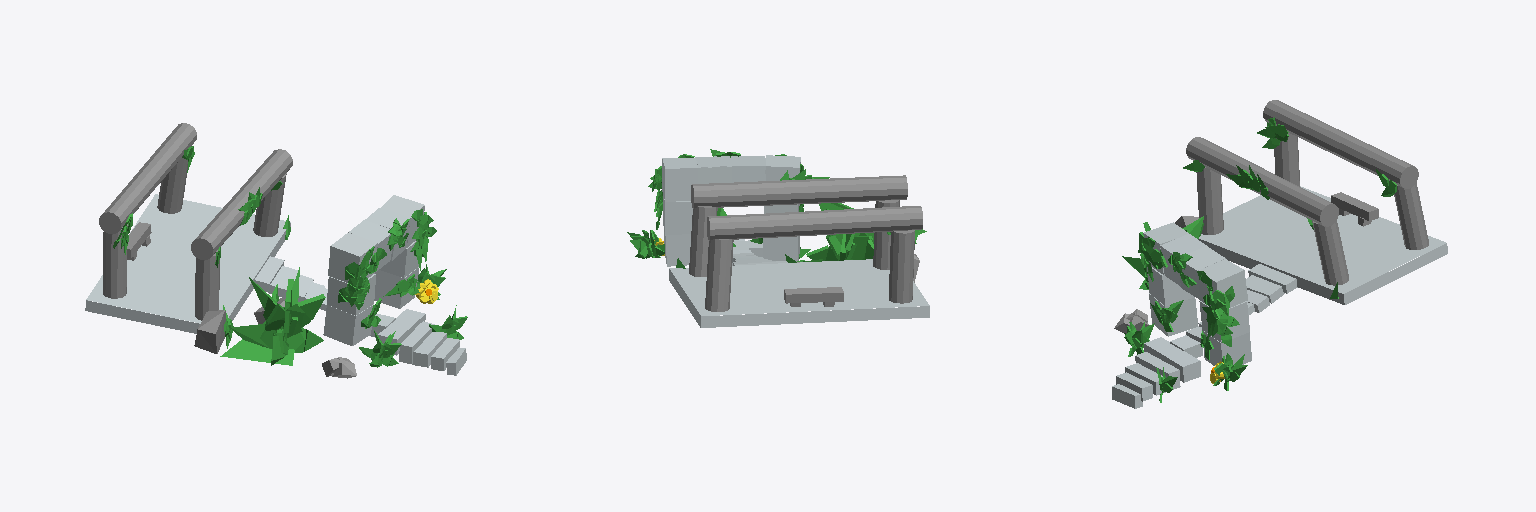
Rendered from ruinsEdit.obj.
3 renders of one model, left to right at view 1: azimuth 30°, elevation 25°; view 2: azimuth 150°, elevation 25°; view 3: azimuth 270°, elevation 25°, orthographic.
Visible parts, largest first — view 1: model; view 2: model; view 3: model.
Part boxes in pixels (x1,y1,x2,y2): model: (85, 123, 467, 378); model: (627, 149, 929, 327); model: (1112, 100, 1447, 408).
Bounding box in the file's own units: 0.7776 × 0.3887 × 0.6823.